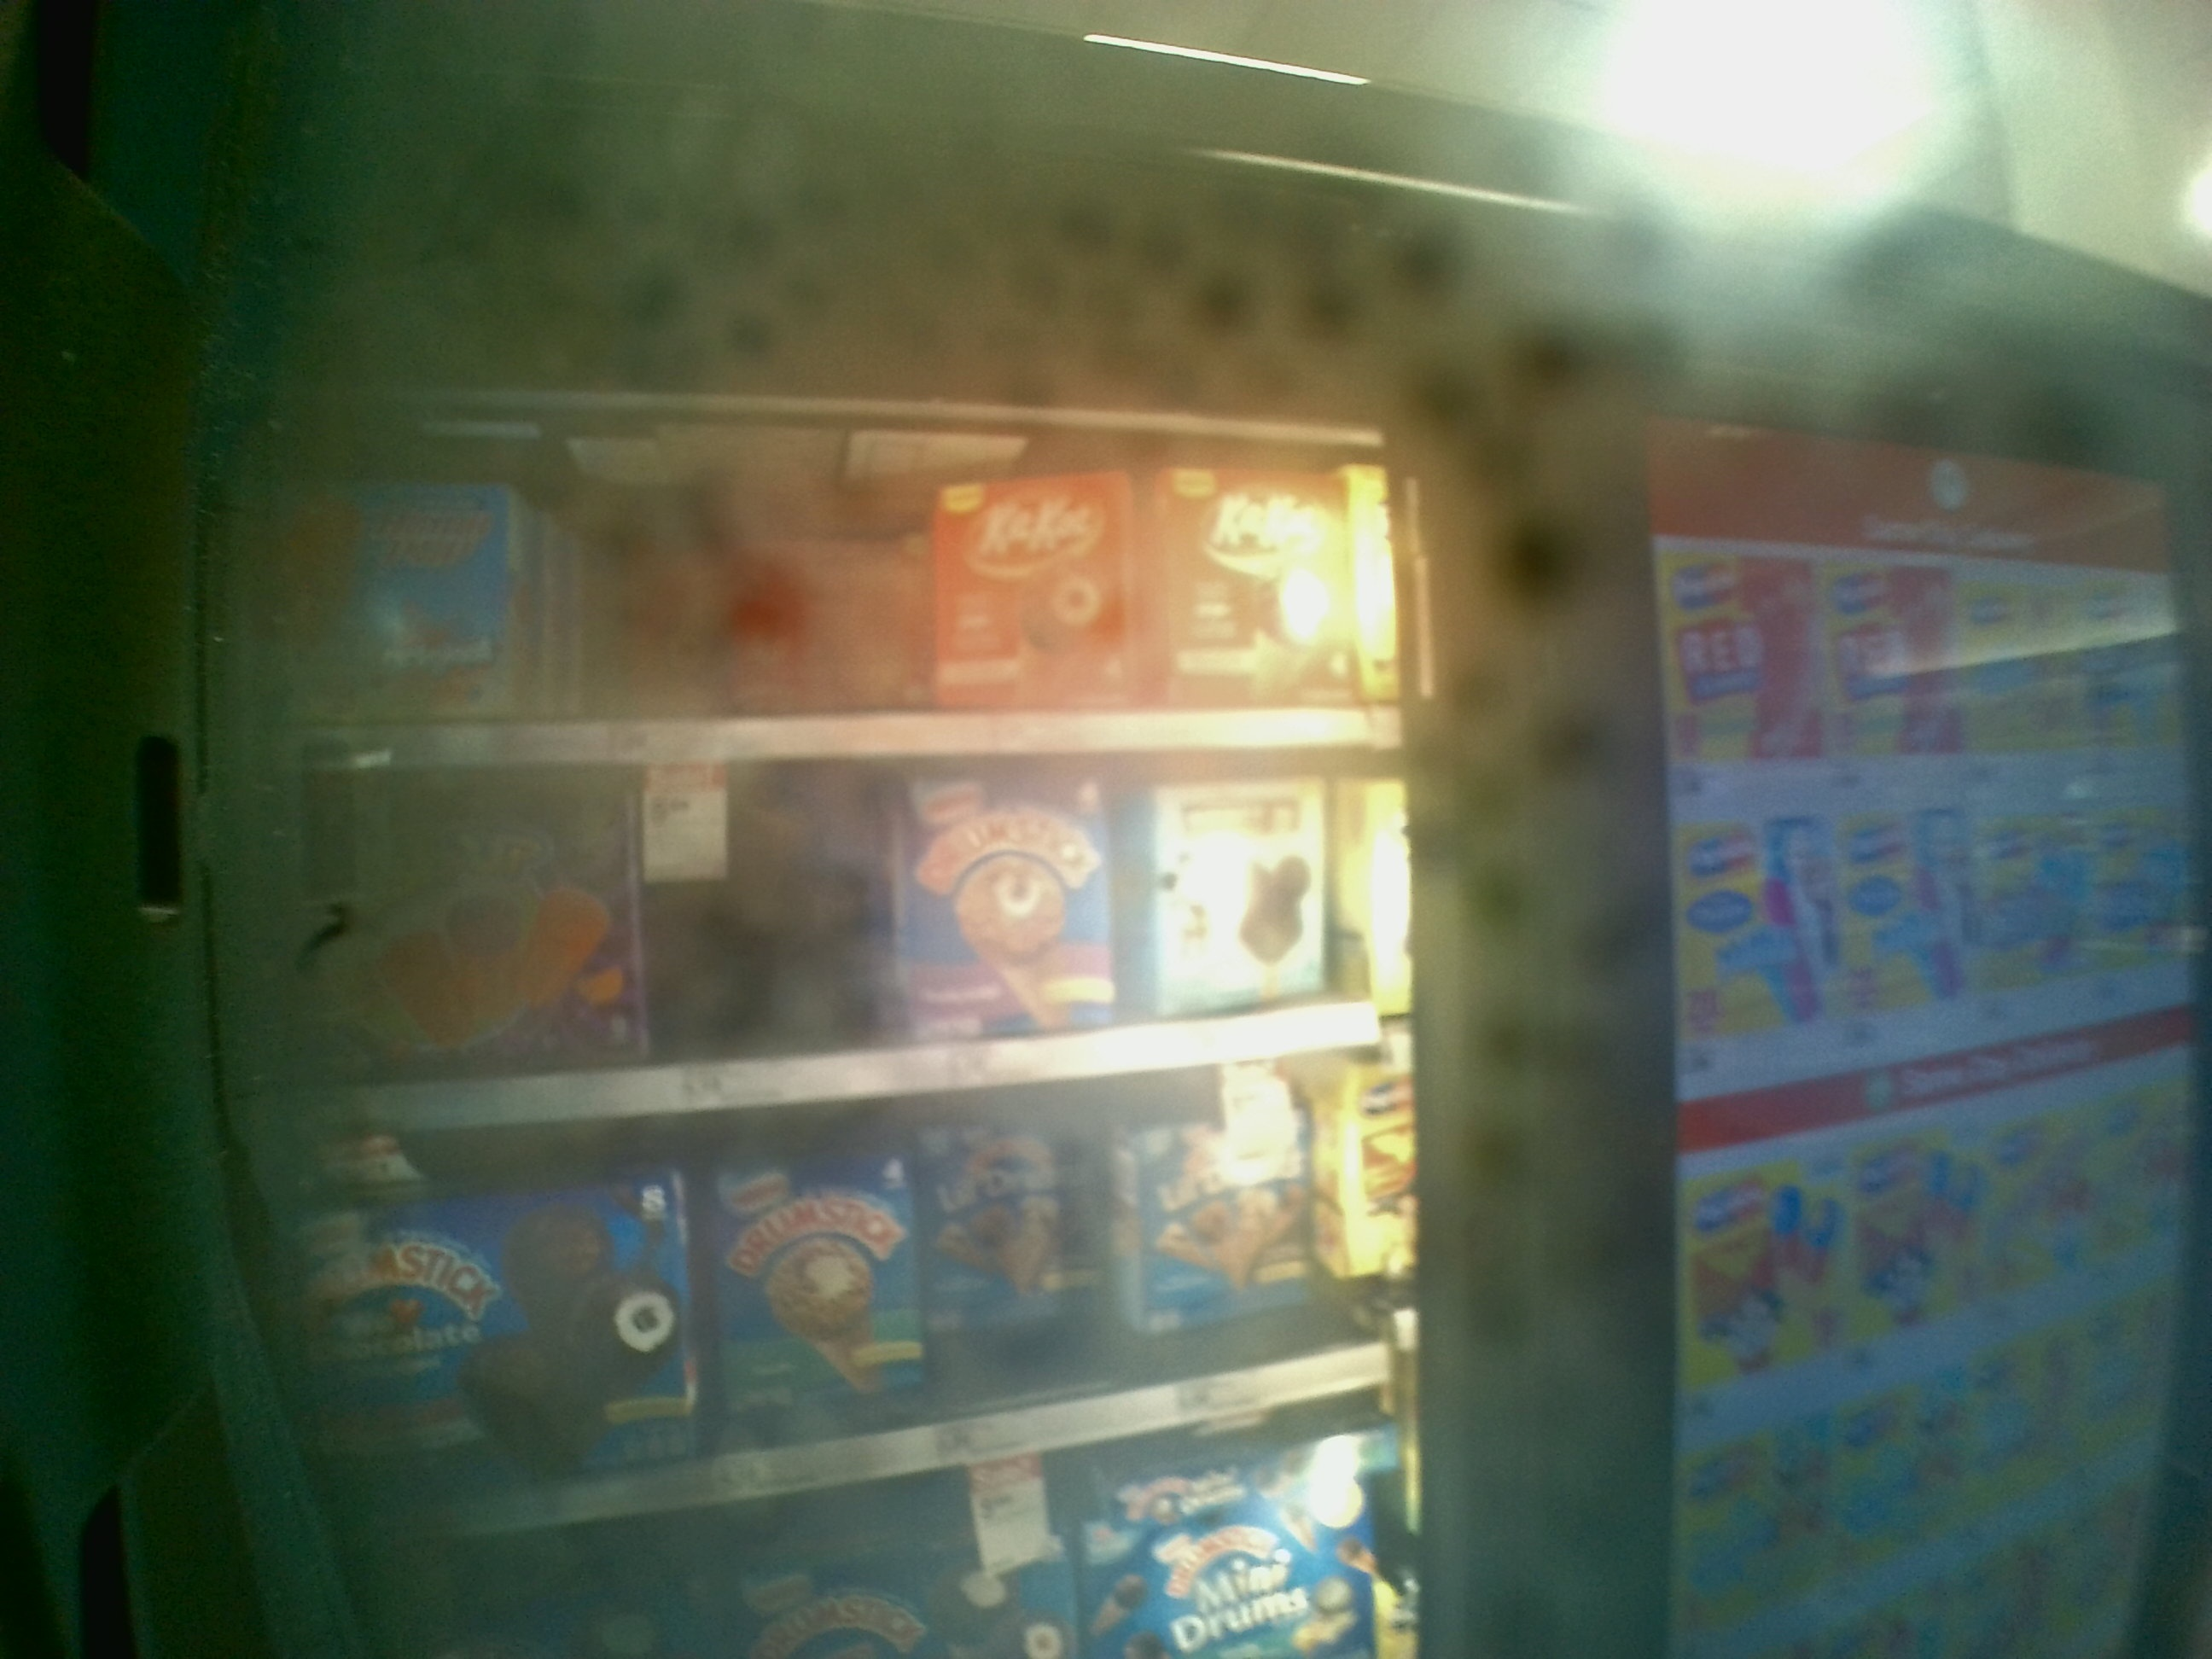shelf: (273, 751, 1406, 1122), (279, 392, 1418, 751)
